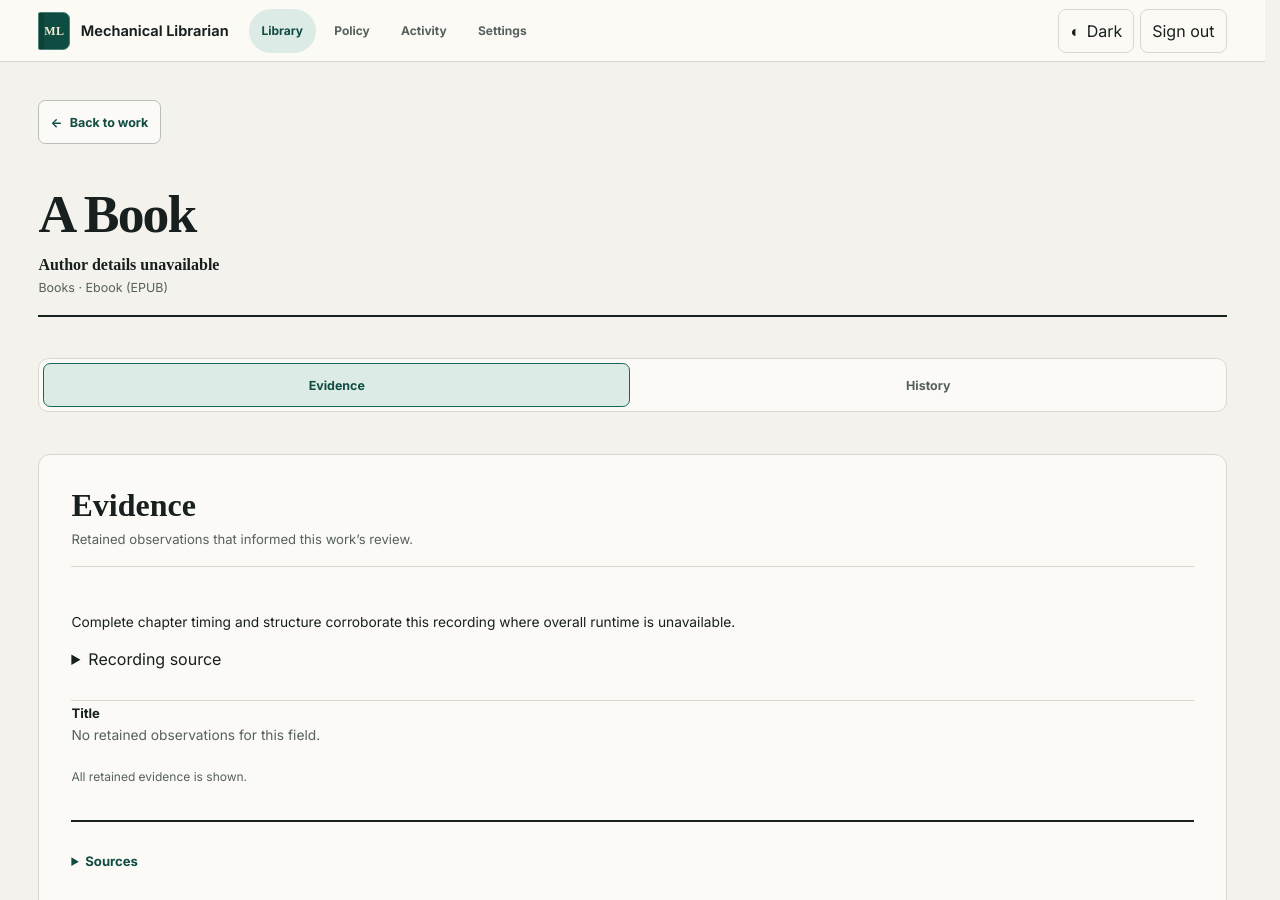
Library review ownership › explains chapter recording identity at /review/case-1?subview=evidence with secondary source attribution
This screenshot has width=1280, height=900.
Expected: the text "where overall runtime is unavailable" is shown, [71,614,735,630]
Expected: the text "Audnexus · recording-1" is not shown
Step 1. Click the heading "Recording source" → (155, 659), box [88,649,221,669]
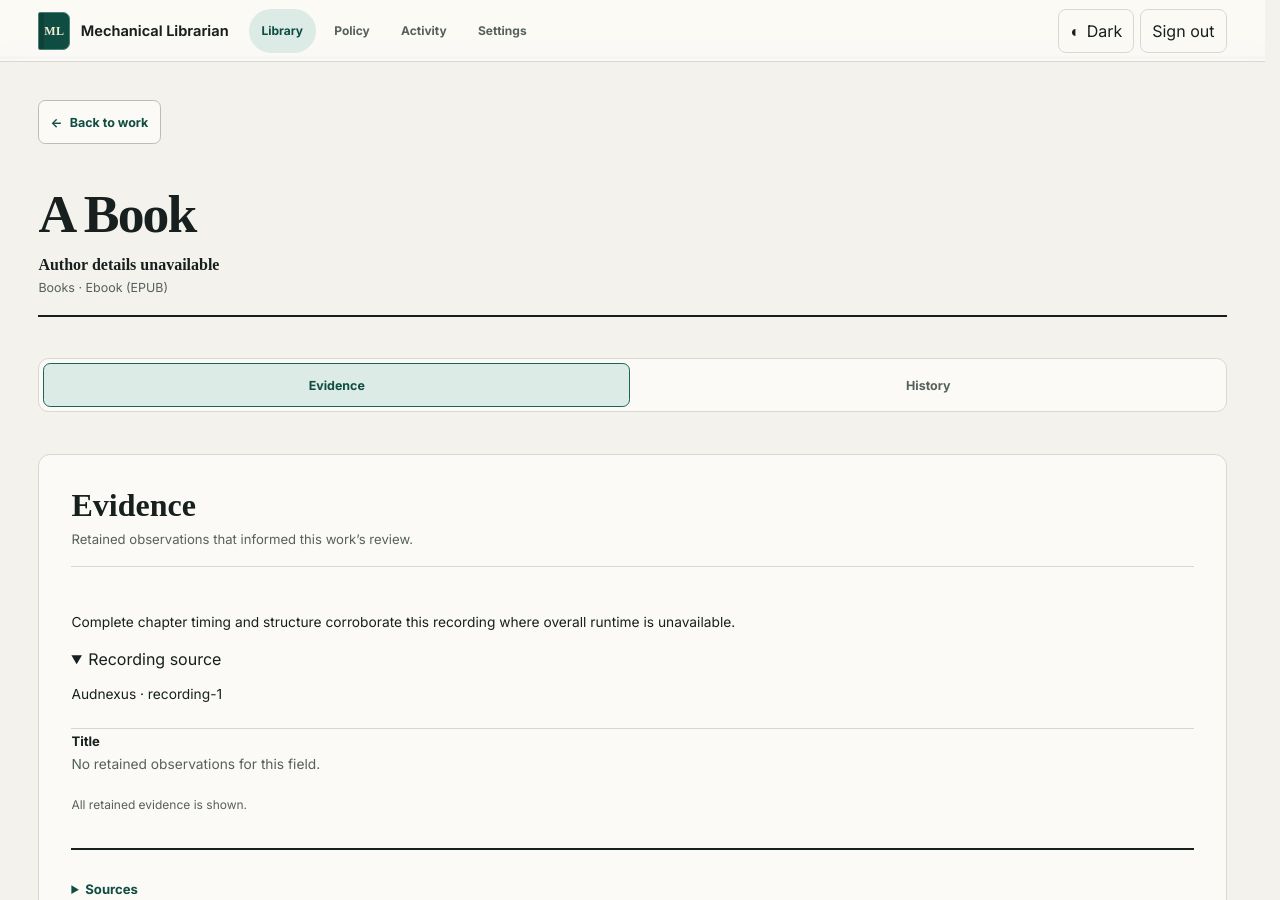
Result: the text "Audnexus · recording-1" is shown at [71,686,222,702]
